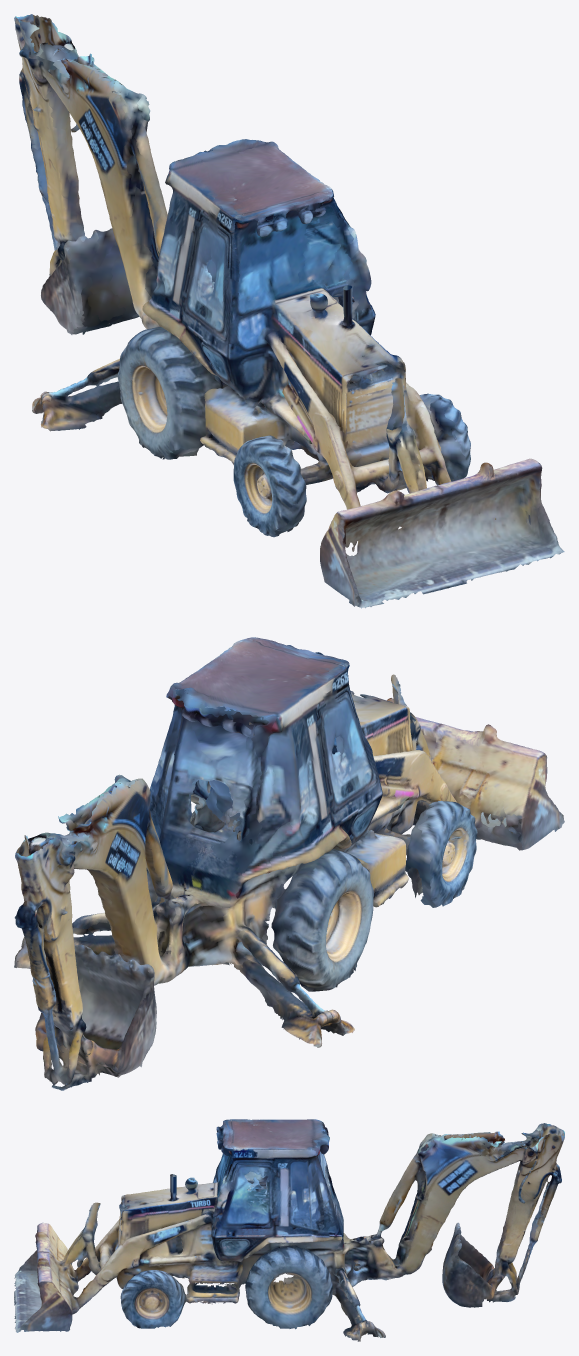
File: BackhoeLoader_416F2.glb
The picture shows the model from 3 angles, top to bottom: view 1: azimuth 30°, elevation 25°; view 2: azimuth 150°, elevation 25°; view 3: azimuth 270°, elevation 25°; orthographic projection. The views are drawn at different scales.
Visible parts, largest first — view 1: Object_4, Object_5, Object_3; view 2: Object_4, Object_3, Object_5; view 3: Object_4, Object_3, Object_5.
Boxes of the visible parts, bbox=[...] form: Object_4: bbox=[15, 14, 564, 606]; Object_5: bbox=[14, 15, 563, 554]; Object_3: bbox=[15, 17, 548, 608]; Object_4: bbox=[14, 637, 564, 1087]; Object_3: bbox=[14, 640, 564, 1088]; Object_5: bbox=[14, 638, 547, 1090]; Object_4: bbox=[14, 1119, 564, 1341]; Object_3: bbox=[14, 1119, 556, 1341]; Object_5: bbox=[17, 1119, 564, 1340].
Bounding box in the file's own units: 3.45 × 2.89 × 8.29.
Materials: 1 (1 with a texture image).
